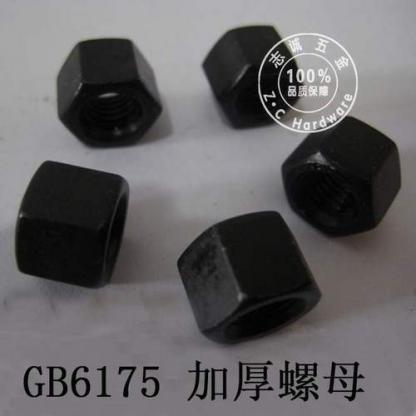FOD: (176, 207, 326, 348), (13, 158, 138, 289), (280, 112, 406, 239), (52, 35, 164, 148), (202, 21, 301, 133)
